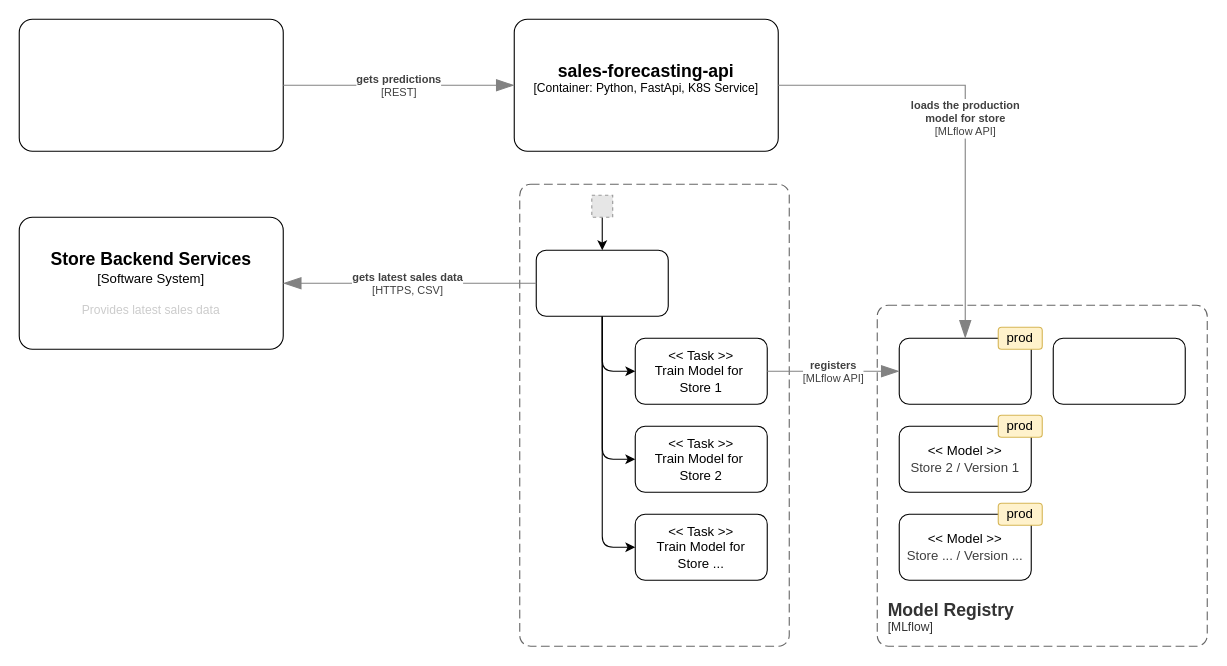
Some shapes in this 1227 by 666 pixel diagram are drawn without their labels. Grey dashed boxes stand in for pictures. The shapes that lost their labels are listed below. From the top down, each one's box as (x1, y1, x2, y2) in pixels, then its label:
(18, 18, 283, 151): Dashboarding System [Software System] Visualizes sales predictions
(535, 249, 668, 316): << Task >> Download Latest Sales Data
(898, 337, 1031, 404): << Model >> Store 1 / Version 2
(1052, 337, 1185, 404): << Model >> Store 1 / Version 1
(519, 183, 789, 646): Training Workflow [Airflow]
